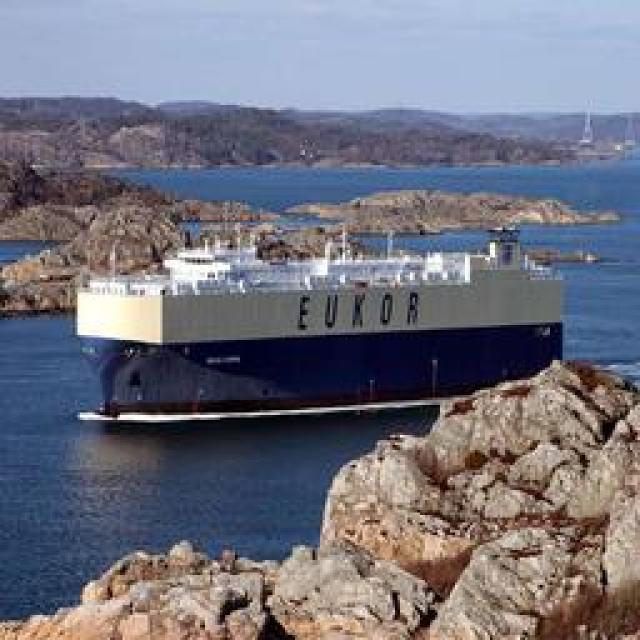CIV_Ship: (69, 224, 592, 424)
